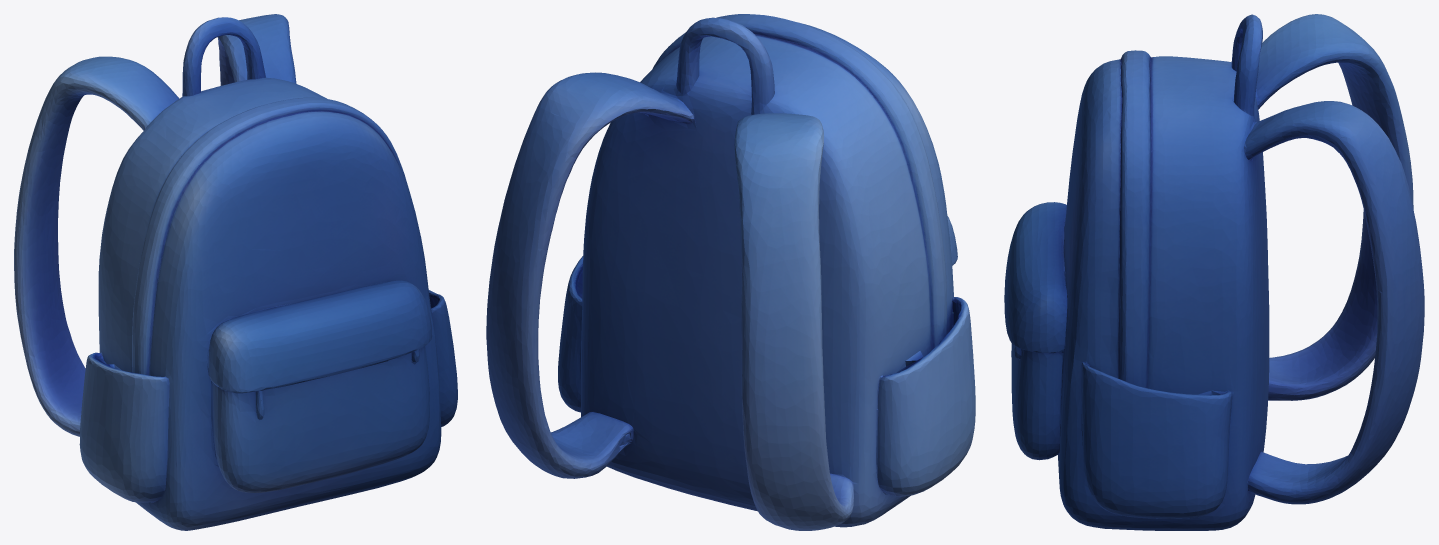
Rendered from backpack.glb.
3 renders of one model, left to right at view 1: azimuth 30°, elevation 25°; view 2: azimuth 150°, elevation 25°; view 3: azimuth 270°, elevation 25°, orthographic. The views are drawn at different scales.
Parts seen in each view (by area): view 1: world; view 2: world; view 3: world.
Boxes of the visible parts, bbox=[...] form: world: bbox=[14, 14, 457, 530]; world: bbox=[486, 14, 975, 530]; world: bbox=[1004, 14, 1424, 530].
Size of the model in its own units: 0.8052 by 0.9985 by 0.8325.
1 material, 1 textured.
